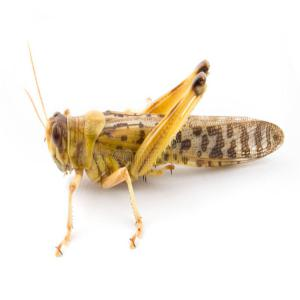locust: (44, 78, 284, 209)
